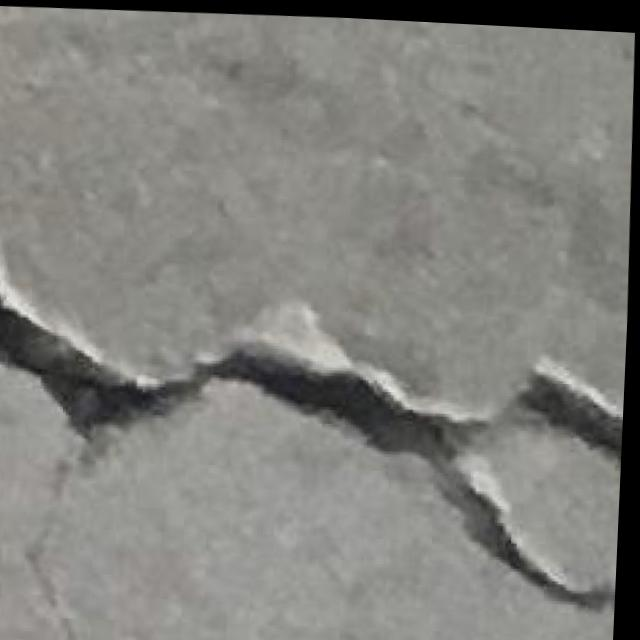Crack: (0, 242, 632, 626)
